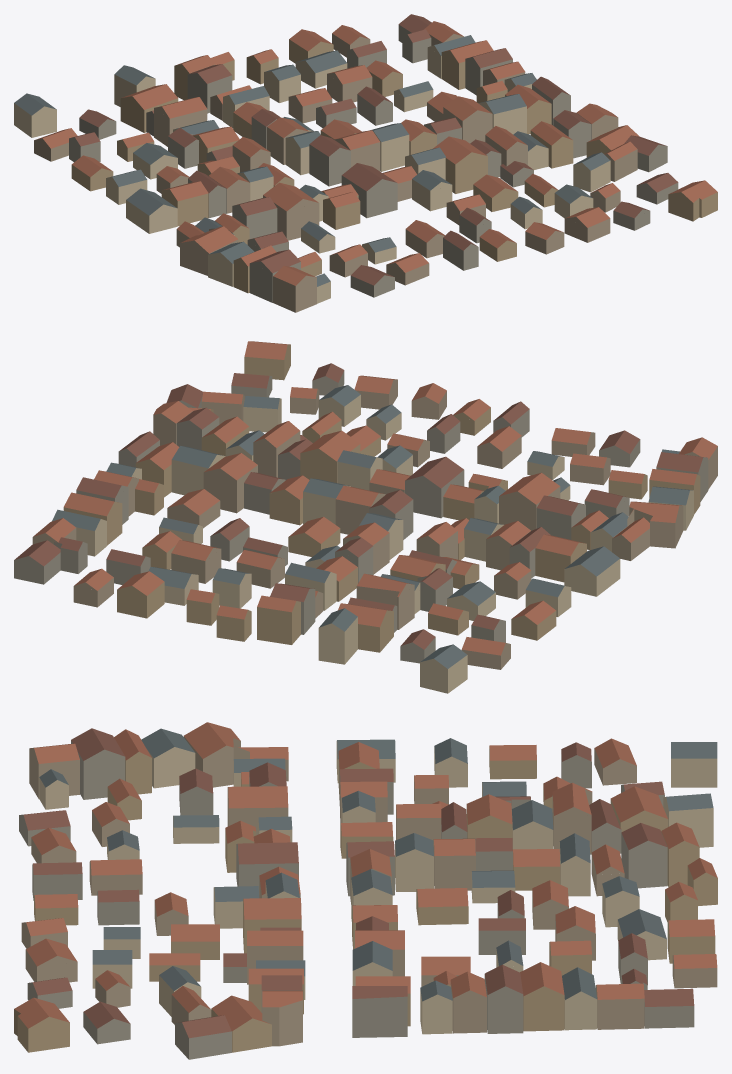
3 renders of one model, top to bottom at view 1: azimuth 30°, elevation 25°; view 2: azimuth 150°, elevation 25°; view 3: azimuth 270°, elevation 25°, orthographic. The views are drawn at different scales.
Visible parts, largest first — view 1: C_-2_0; view 2: C_-2_0; view 3: C_-2_0.
Boxes of the visible parts, bbox=[...] form: C_-2_0: bbox=[14, 14, 717, 312]; C_-2_0: bbox=[14, 341, 717, 693]; C_-2_0: bbox=[14, 722, 717, 1059].
Size of the model in its own units: 190 by 14.6 by 187.
